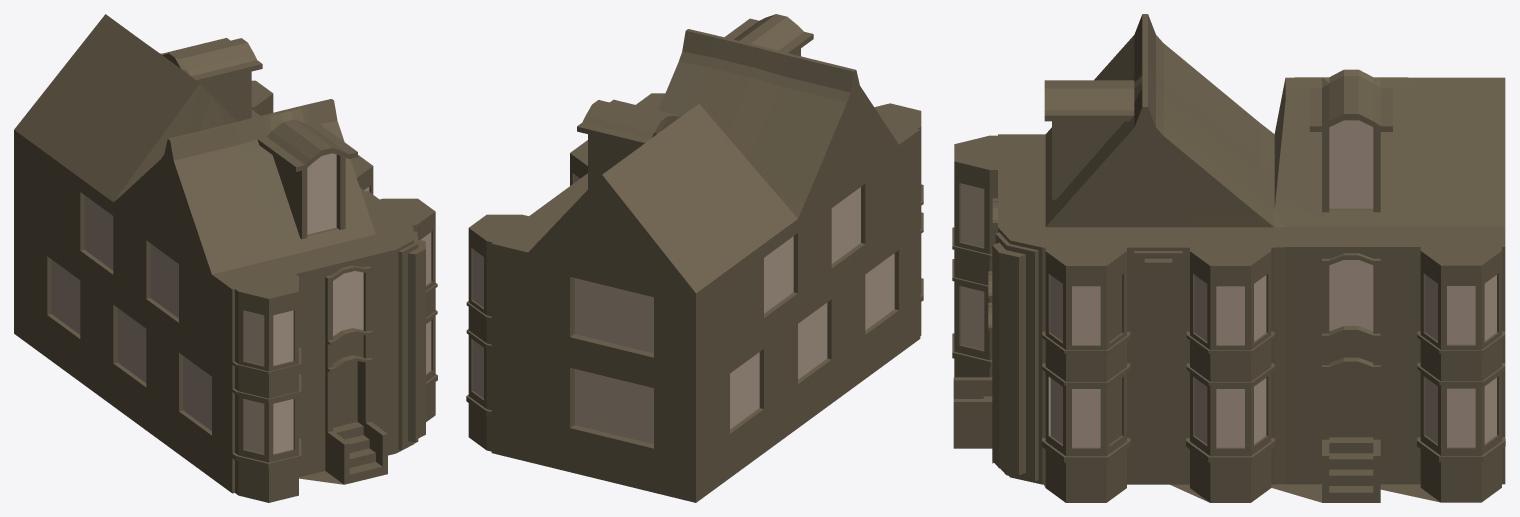
File: CasaGrandeOk.fbx
3 renders of one model, left to right at view 1: azimuth 30°, elevation 25°; view 2: azimuth 150°, elevation 25°; view 3: azimuth 270°, elevation 25°, orthographic. The views are drawn at different scales.
Visible parts, largest first — view 1: Cube.001; view 2: Cube.001; view 3: Cube.001.
Boxes of the visible parts, bbox=[...] form: Cube.001: bbox=[14, 14, 437, 502]; Cube.001: bbox=[466, 14, 923, 502]; Cube.001: bbox=[952, 14, 1505, 502].
Bounding box in the file's own units: 2404 × 3018 × 4234.
